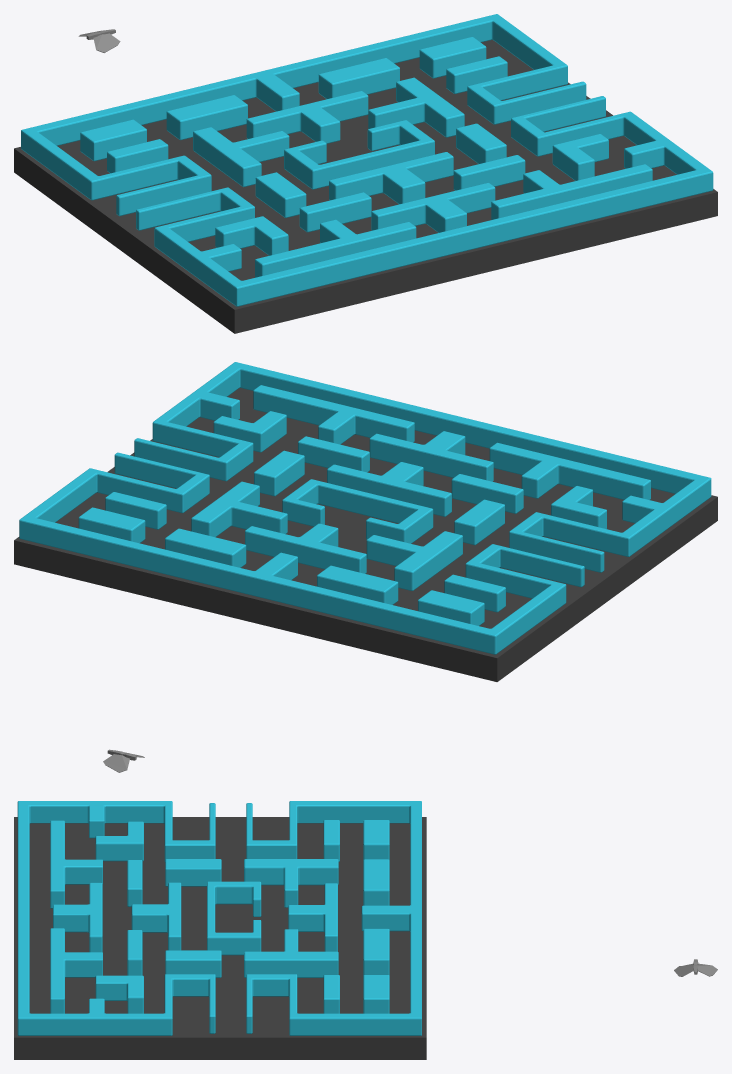
The model's file is pacman.fbx.
The picture shows the model from 3 angles, top to bottom: view 1: azimuth 30°, elevation 25°; view 2: azimuth 150°, elevation 25°; view 3: azimuth 270°, elevation 25°; orthographic projection. The views are drawn at different scales.
Parts seen in each view (by area): view 1: Walls, Ground.003, Cube.067; view 2: Walls, Ground.003; view 3: Walls, Ground.003, Cube.067.
Part boxes in pixels (x1=…): Walls: x1=21, y1=14, x2=713, y2=306; Ground.003: x1=14, y1=40, x2=717, y2=333; Cube.067: x1=78, y1=29, x2=120, y2=52; Walls: x1=19, y1=362, x2=711, y2=654; Ground.003: x1=14, y1=388, x2=717, y2=681; Walls: x1=17, y1=801, x2=421, y2=1035; Ground.003: x1=14, y1=817, x2=426, y2=1059; Cube.067: x1=674, y1=959, x2=717, y2=976.
Bounding box in the file's own units: 2782 × 416 × 3753.
